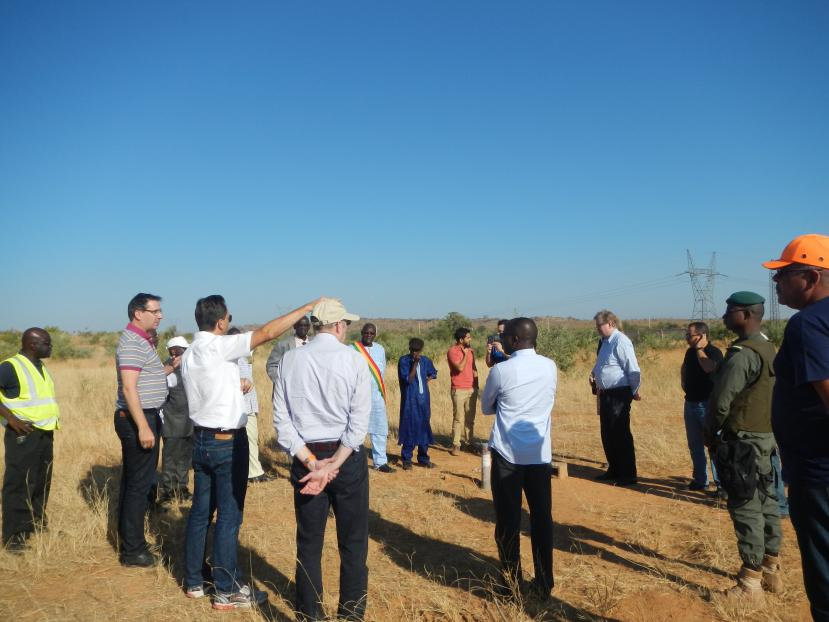noepi: (184, 293, 316, 602), (277, 296, 372, 622), (763, 236, 827, 622), (481, 317, 556, 600), (718, 290, 781, 599), (105, 292, 171, 569), (1, 328, 56, 560), (583, 307, 641, 489), (679, 320, 726, 498), (350, 321, 390, 474), (397, 335, 437, 470), (263, 311, 316, 406), (446, 325, 481, 458), (484, 317, 518, 373), (160, 330, 187, 371)
